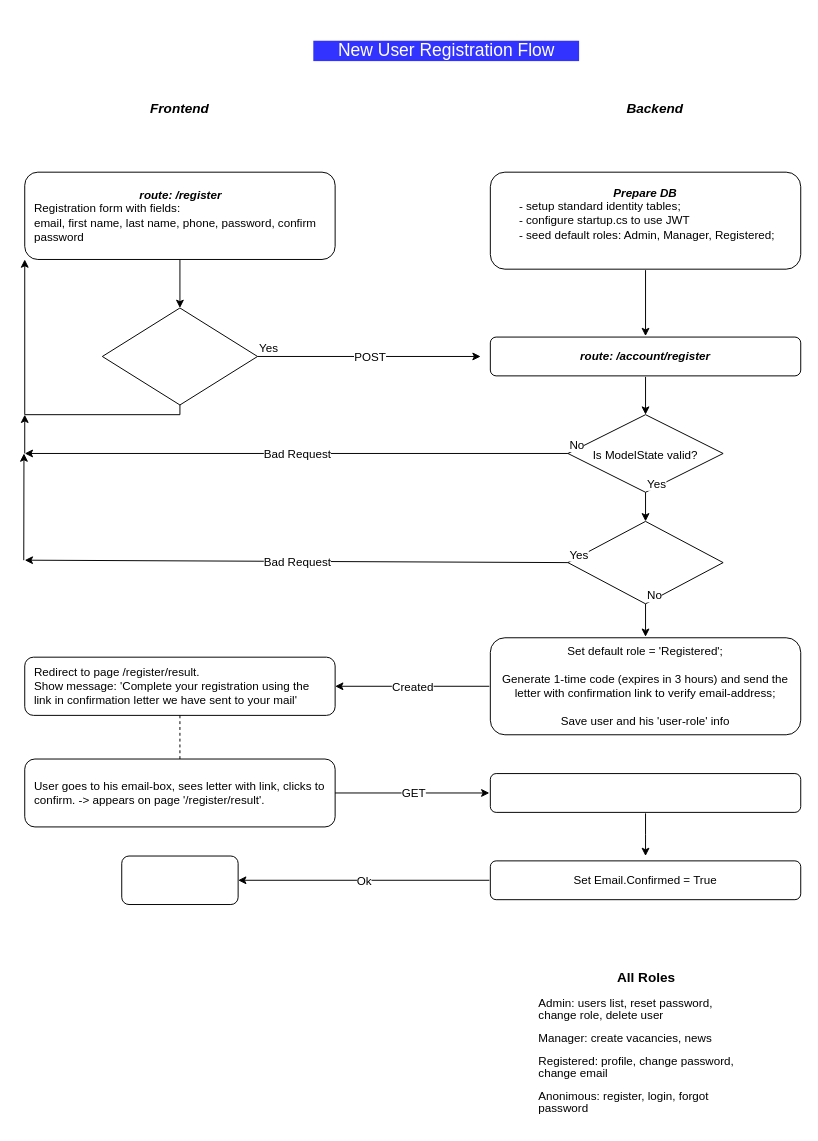
This 818x1141 diagram has some shape labels left out. Each missing label, with the centre of its shape:
"Form Validation sucseed?" goes at point (179, 356).
"Registration completed." goes at point (179, 880).
"route: /account/confirmemail/{code}" goes at point (645, 792).
"User with given email exists?" goes at point (645, 562).
